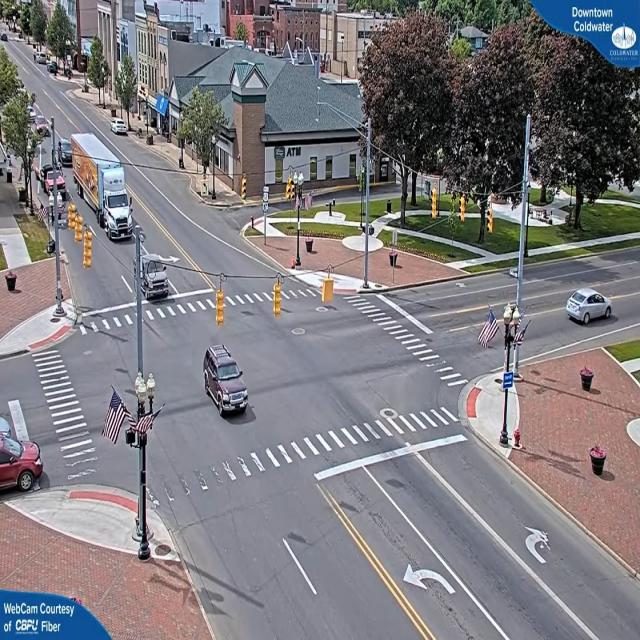car: (0, 409, 42, 499), (202, 345, 247, 418), (566, 288, 614, 327), (139, 260, 171, 300), (112, 120, 129, 136)
truck: (76, 138, 136, 238)
